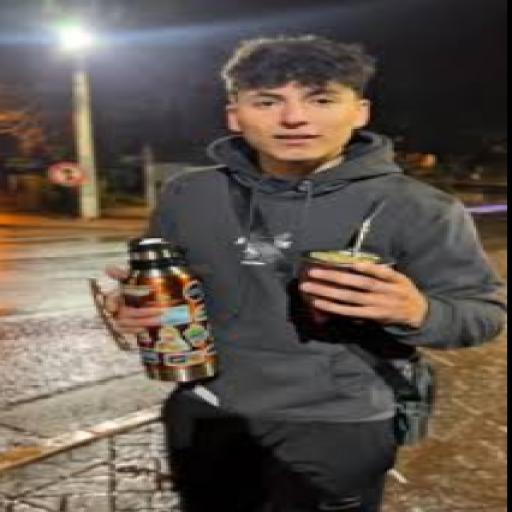mate: (306, 201, 394, 271)
termo: (123, 237, 216, 383)
